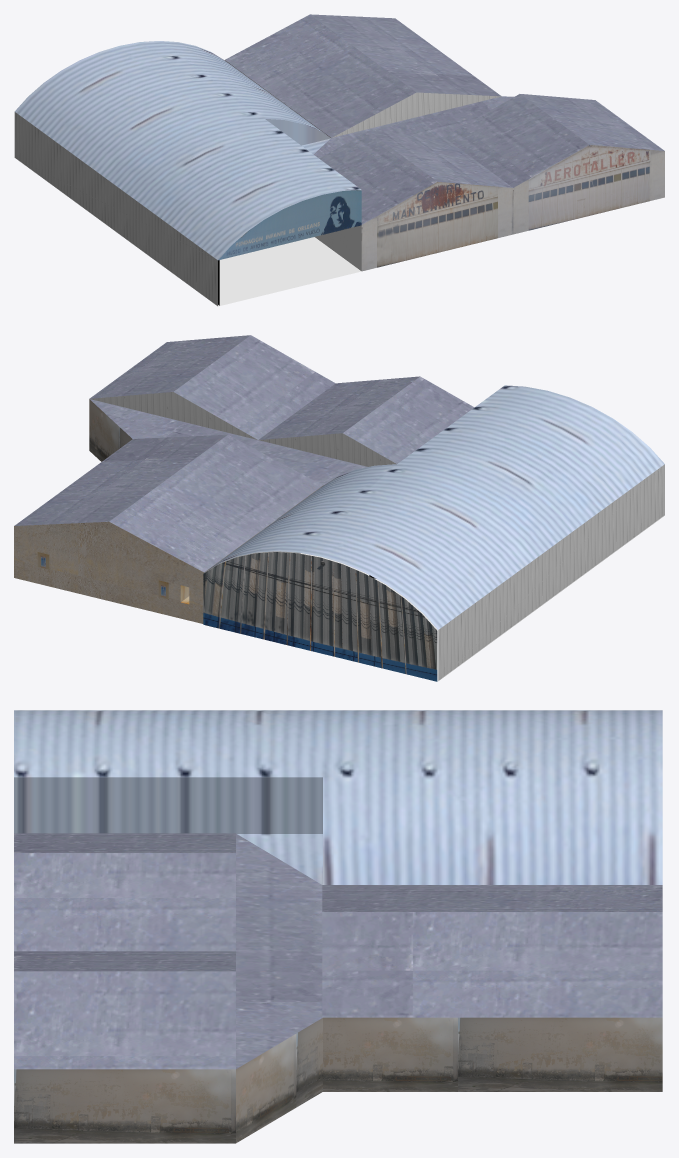
Rendered from Lecu_aerotaller.gltf.
3 renders of one model, top to bottom at view 1: azimuth 30°, elevation 25°; view 2: azimuth 150°, elevation 25°; view 3: azimuth 270°, elevation 25°, orthographic. The views are drawn at different scales.
Visible parts, largest first — view 1: aerotaller.001; view 2: aerotaller.001; view 3: aerotaller.001.
Part boxes in pixels (x1,y1,x2,y2): aerotaller.001: (14,14,664,306); aerotaller.001: (14,335,664,681); aerotaller.001: (14,710,662,1143).
Bounding box in the file's own units: 56.33 × 10.39 × 44.56.
